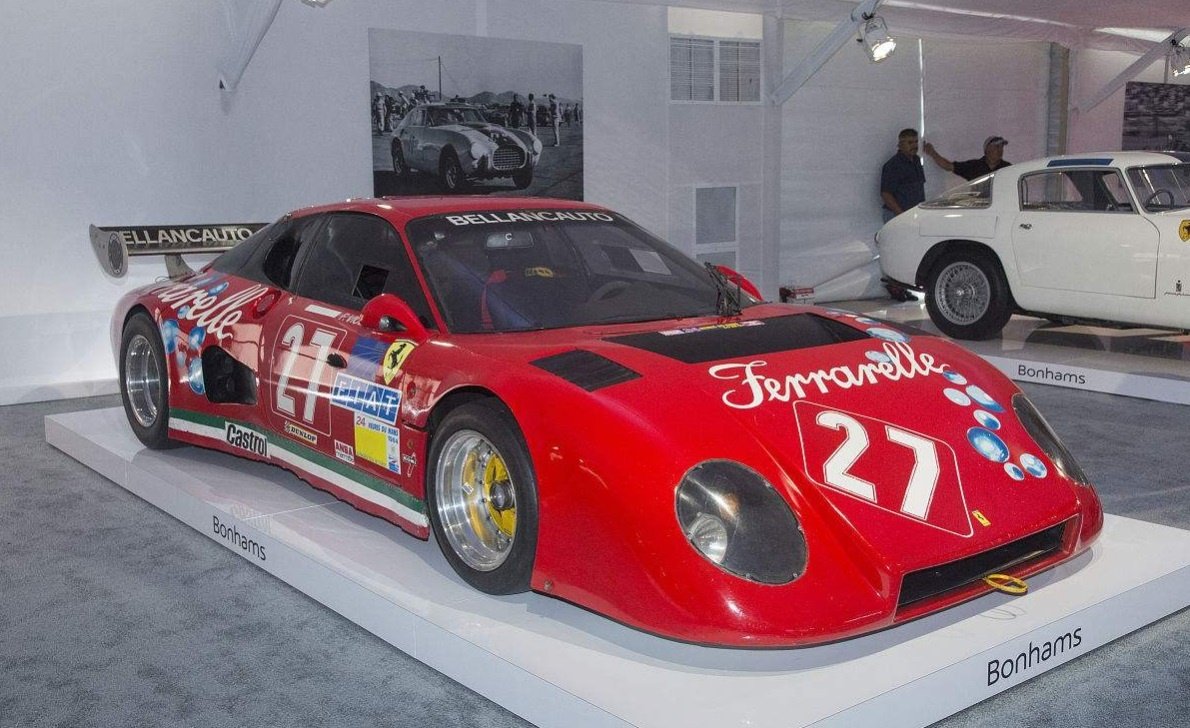racing car: (97, 164, 1114, 648)
